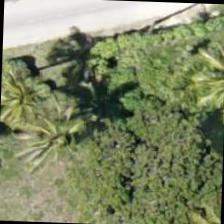Kelapa_Sawit: (0, 51, 69, 144)
